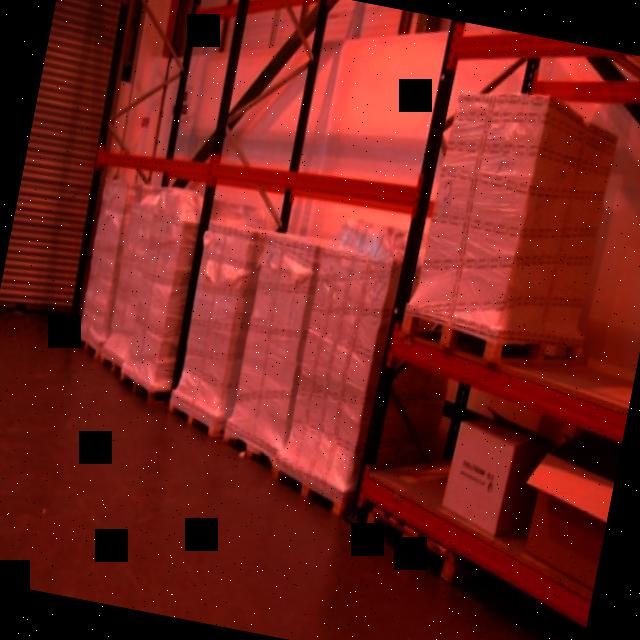box: (398, 100, 617, 364), (285, 243, 404, 476), (517, 445, 619, 580), (438, 418, 544, 530)
